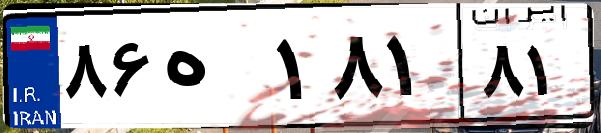1: (270, 28, 330, 110), (385, 28, 445, 110), (525, 38, 570, 115)
6: (110, 28, 158, 98)
8: (330, 28, 385, 110), (57, 26, 110, 100), (475, 38, 525, 113)
ه: (158, 20, 270, 120)
